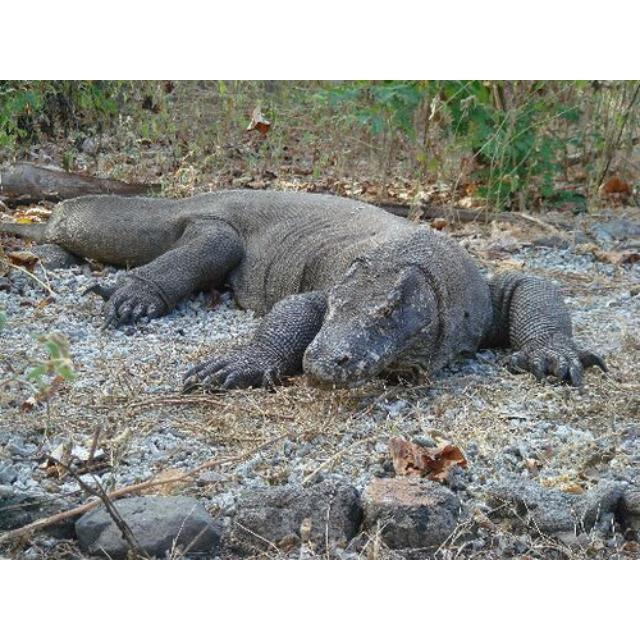KomodoDragon: (1, 186, 610, 395)
